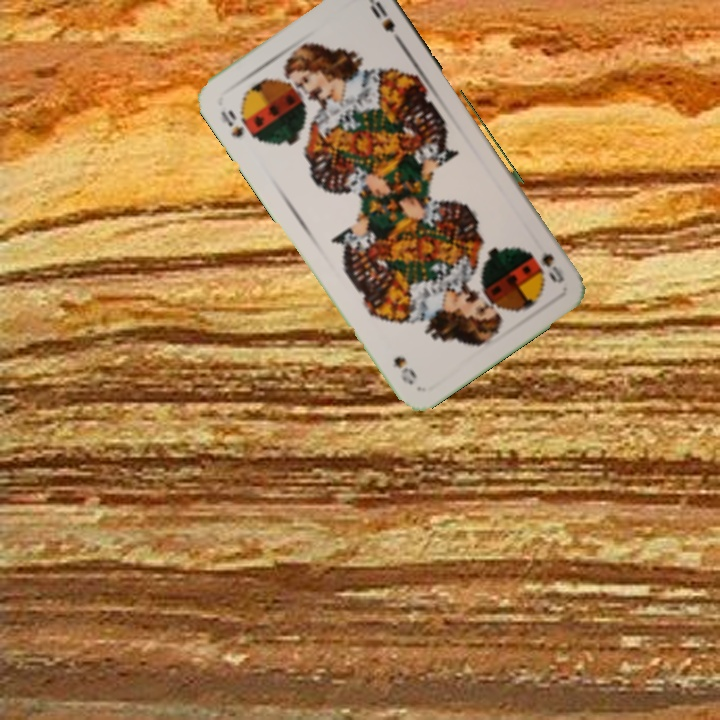SO: (216, 105, 258, 141), (537, 249, 567, 286)
